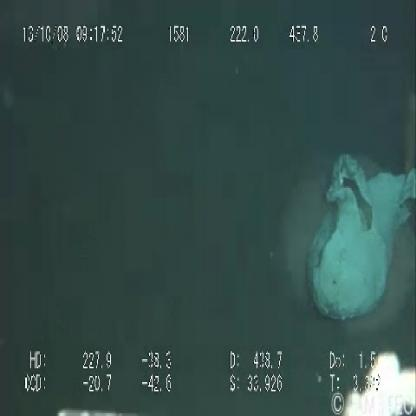Rov: (326, 346, 416, 416)
Rác: (296, 148, 416, 333)
